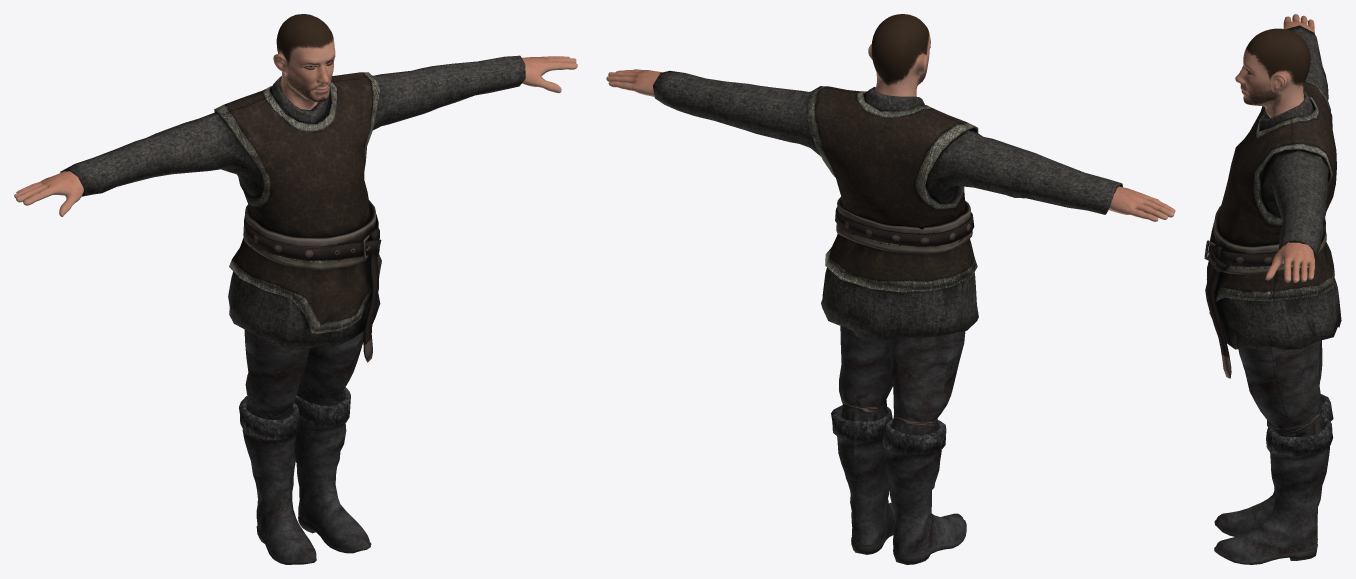
File: bartender.obj
The picture shows the model from 3 angles, left to right: view 1: azimuth 30°, elevation 25°; view 2: azimuth 150°, elevation 25°; view 3: azimuth 270°, elevation 25°; orthographic projection. The views are drawn at different scales.
Visible parts, largest first — view 1: Tops, Shoes, Body, Bottoms; view 2: Tops, Shoes, Bottoms, Body; view 3: Tops, Shoes, Body, Bottoms.
Boxes of the visible parts, <box> form: Tops: <box>60,55,525,362</box>; Shoes: <box>239,387,371,564</box>; Body: <box>14,14,577,216</box>; Bottoms: <box>244,330,363,419</box>; Tops: <box>652,70,1122,339</box>; Shoes: <box>831,405,966,564</box>; Bottoms: <box>839,326,965,434</box>; Body: <box>606,14,1175,221</box>; Tops: <box>1204,25,1341,378</box>; Shoes: <box>1214,394,1333,564</box>; Body: <box>1235,14,1315,282</box>; Bottoms: <box>1238,340,1323,436</box>.
Size of the model in its own units: 201 by 180 by 43.4.
4 materials, 4 textured.
